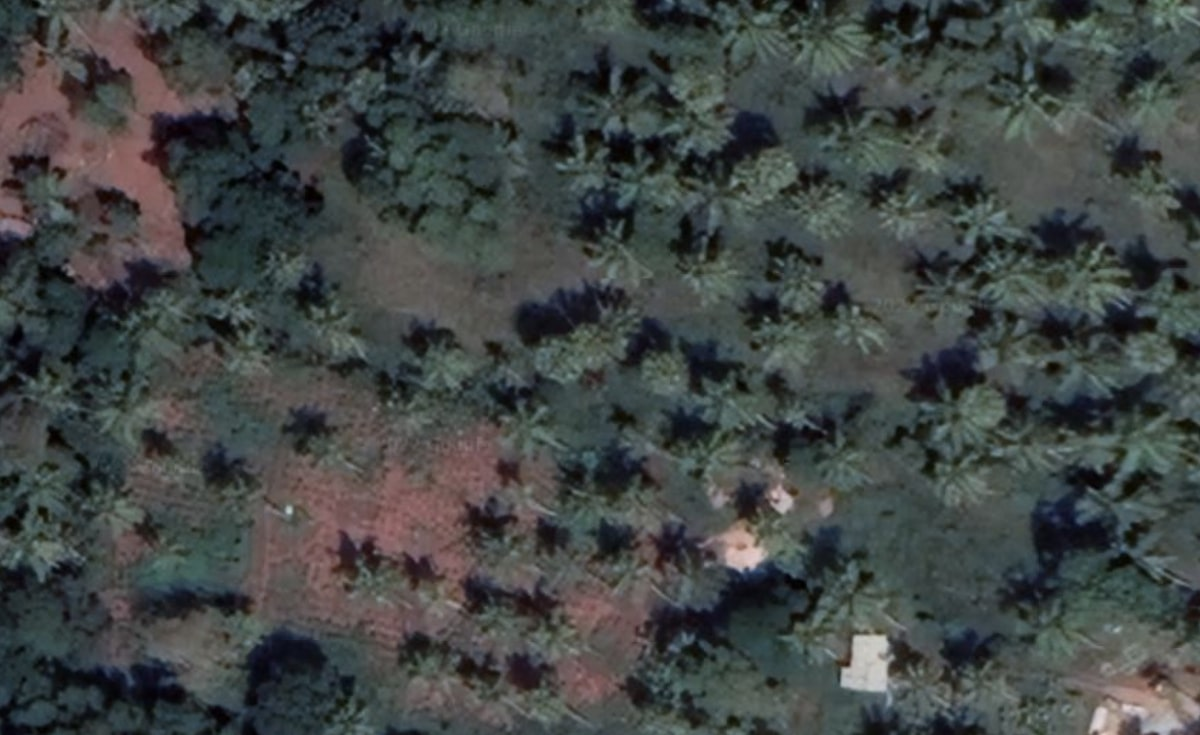coconut: (571, 69, 662, 147), (952, 171, 1030, 254), (1051, 250, 1129, 325), (868, 176, 943, 249), (577, 226, 655, 294), (90, 383, 170, 446), (823, 111, 894, 181), (1115, 153, 1184, 225), (1115, 63, 1186, 132), (1115, 406, 1179, 481), (1024, 583, 1092, 653), (301, 427, 376, 490), (792, 9, 865, 72), (225, 298, 279, 383), (829, 302, 892, 364), (677, 240, 737, 305), (1008, 68, 1057, 144), (666, 555, 731, 612), (313, 312, 370, 376), (146, 286, 205, 345), (930, 456, 991, 513), (94, 484, 159, 537), (767, 254, 825, 313), (791, 185, 854, 239), (816, 433, 865, 499), (664, 429, 722, 484), (400, 336, 460, 389), (499, 411, 559, 463), (539, 535, 588, 596), (469, 511, 518, 571), (351, 555, 405, 607), (407, 644, 455, 695), (597, 551, 644, 598), (465, 594, 512, 640)
